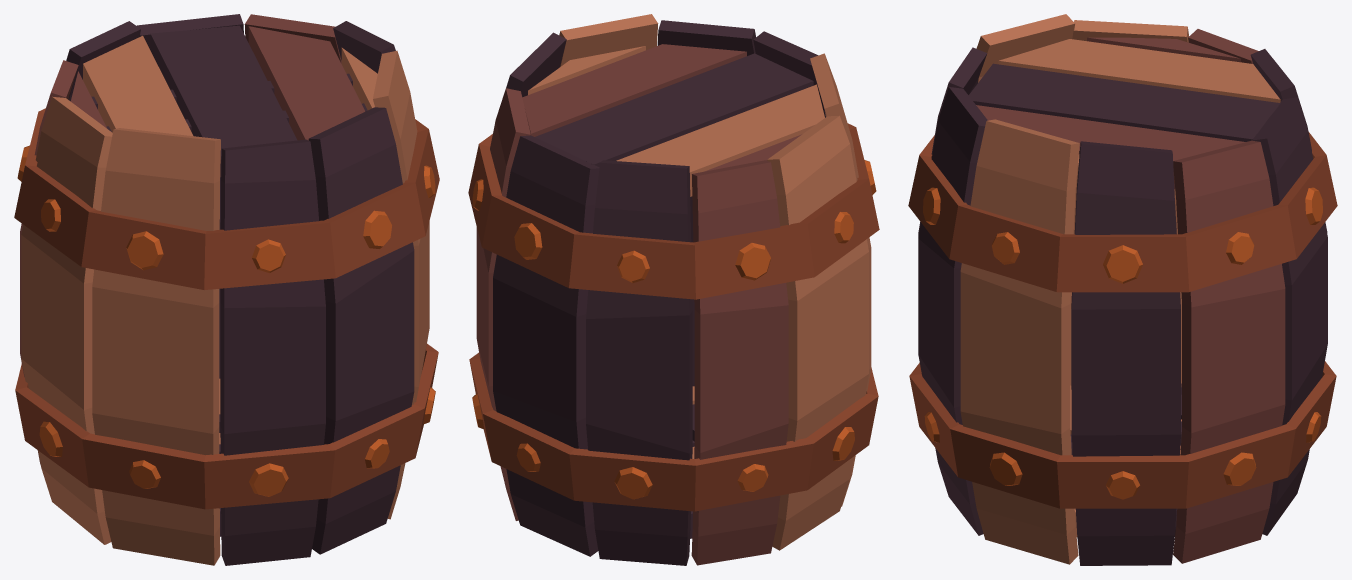
The model's file is Barrel 1_6b.fbx.
3 views of the same model, side by side, from view 1: azimuth 30°, elevation 25°; view 2: azimuth 150°, elevation 25°; view 3: azimuth 270°, elevation 25° (orthographic). The views are drawn at different scales.
Visible parts, largest first — view 1: Barrel 1_6b.008, Barrel 1_6b.009, Barrel 1_6b, Barrel 1_6b.003, Barrel 1_6b.010, Barrel 1_6b.004, Barrel 1_6b.007, Barrel 1_6b.011, Barrel 1_6b.012, Barrel 1_6b.002, Barrel 1_6b.005, Barrel 1_6b.013 (+1 smaller); view 2: Barrel 1_6b.002, Barrel 1_6b, Barrel 1_6b.006, Barrel 1_6b.003, Barrel 1_6b.005, Barrel 1_6b.007, Barrel 1_6b.004, Barrel 1_6b.013, Barrel 1_6b.011, Barrel 1_6b.010, Barrel 1_6b.008, Barrel 1_6b.012 (+1 smaller); view 3: Barrel 1_6b.011, Barrel 1_6b.012, Barrel 1_6b.013, Barrel 1_6b, Barrel 1_6b.003, Barrel 1_6b.004, Barrel 1_6b.010, Barrel 1_6b.005, Barrel 1_6b.008, Barrel 1_6b.007, Barrel 1_6b.002, Barrel 1_6b.009 (+1 smaller).
Part boxes in pixels (x1,y1,x2,y2): Barrel 1_6b.008: (92, 128, 220, 565); Barrel 1_6b.009: (220, 139, 325, 565); Barrel 1_6b: (70, 25, 377, 185); Barrel 1_6b.003: (14, 108, 439, 289); Barrel 1_6b.010: (308, 107, 414, 554); Barrel 1_6b.004: (15, 343, 438, 509); Barrel 1_6b.007: (21, 96, 112, 544); Barrel 1_6b.011: (373, 50, 429, 519); Barrel 1_6b.012: (333, 21, 395, 73); Barrel 1_6b.002: (66, 21, 140, 101); Barrel 1_6b.005: (137, 14, 243, 378); Barrel 1_6b.013: (244, 14, 341, 63); Barrel 1_6b.002: (586, 160, 692, 565); Barrel 1_6b: (522, 44, 824, 196); Barrel 1_6b.006: (691, 160, 788, 565); Barrel 1_6b.003: (468, 123, 879, 299); Barrel 1_6b.005: (493, 135, 599, 556); Barrel 1_6b.007: (767, 115, 868, 550); Barrel 1_6b.004: (469, 352, 878, 511); Barrel 1_6b.013: (476, 88, 530, 520); Barrel 1_6b.011: (559, 14, 658, 66); Barrel 1_6b.010: (657, 20, 755, 386); Barrel 1_6b.008: (810, 53, 871, 506); Barrel 1_6b.012: (506, 32, 566, 97); Barrel 1_6b.011: (960, 119, 1079, 564); Barrel 1_6b.012: (1071, 141, 1180, 565); Barrel 1_6b.013: (1173, 140, 1285, 563); Barrel 1_6b: (968, 37, 1280, 190); Barrel 1_6b.003: (908, 132, 1337, 292); Barrel 1_6b.004: (909, 361, 1336, 508); Barrel 1_6b.010: (918, 87, 987, 535); Barrel 1_6b.005: (1252, 97, 1327, 535); Barrel 1_6b.008: (976, 14, 1075, 82); Barrel 1_6b.007: (1070, 20, 1189, 386); Barrel 1_6b.002: (1250, 49, 1327, 232); Barrel 1_6b.009: (918, 47, 987, 236).
Size of the model in its own units: 104 by 117 by 108.
